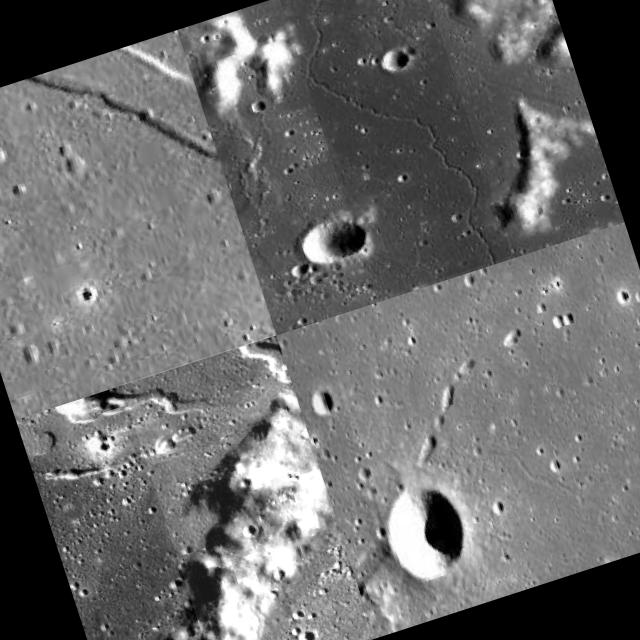rille: (0, 30, 274, 416), (121, 334, 373, 640), (279, 0, 512, 299), (276, 321, 407, 611)
